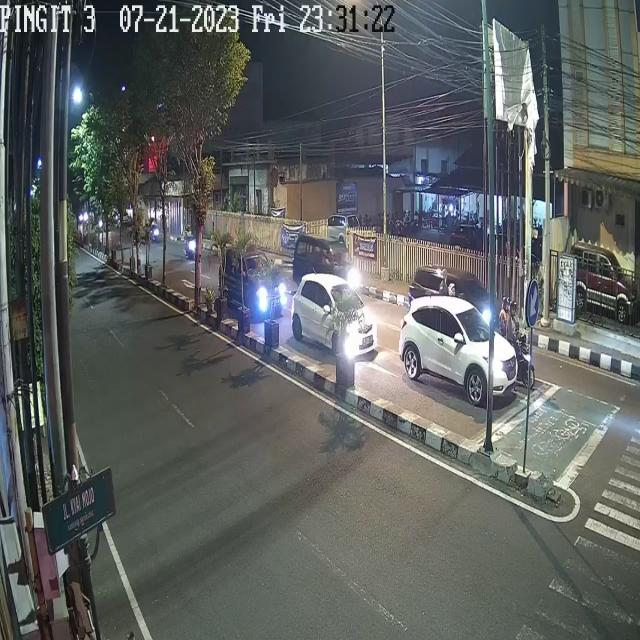car: (396, 294, 519, 410), (292, 272, 376, 362), (402, 259, 498, 329), (220, 242, 286, 319), (293, 229, 365, 298)
motorcycle: (499, 288, 532, 395), (184, 224, 195, 265)
